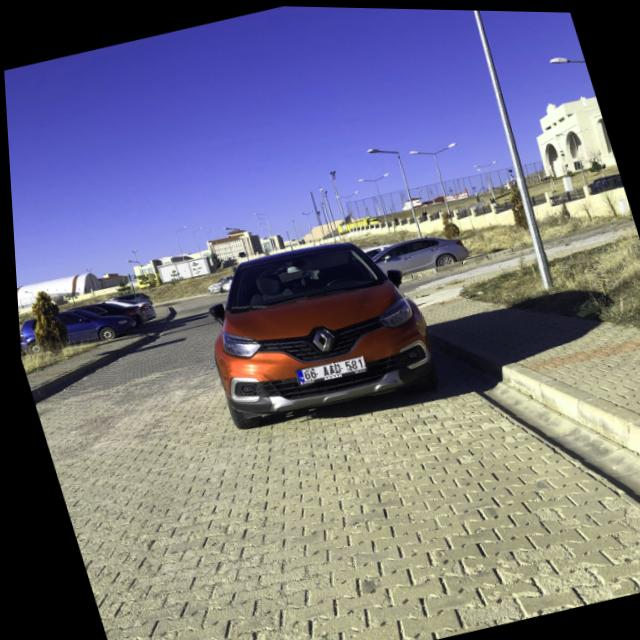license_plate: (291, 352, 363, 383)
